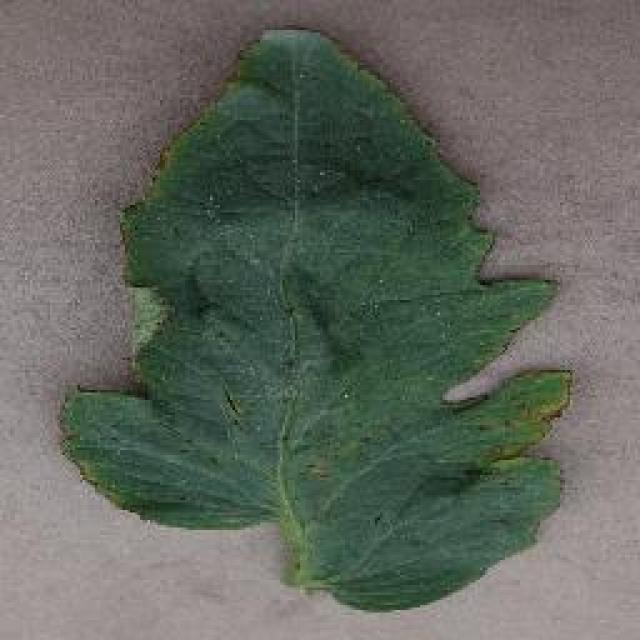Tomato___Bacterial_spot: (53, 27, 580, 616)
